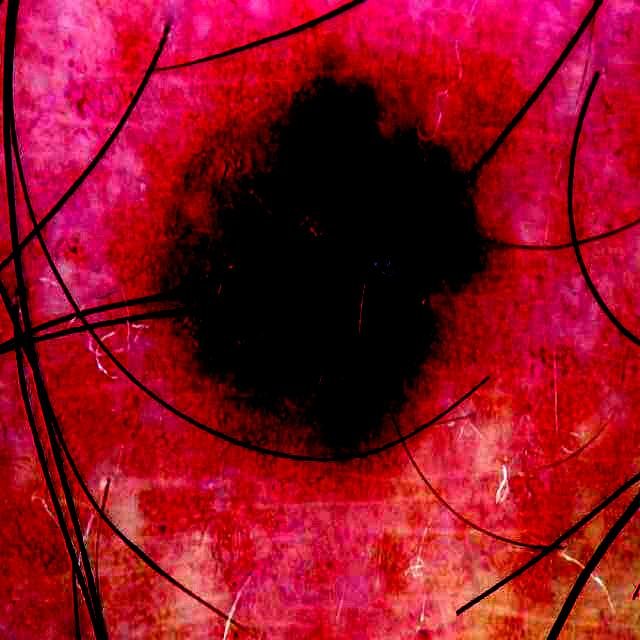NV: (129, 58, 487, 457)
